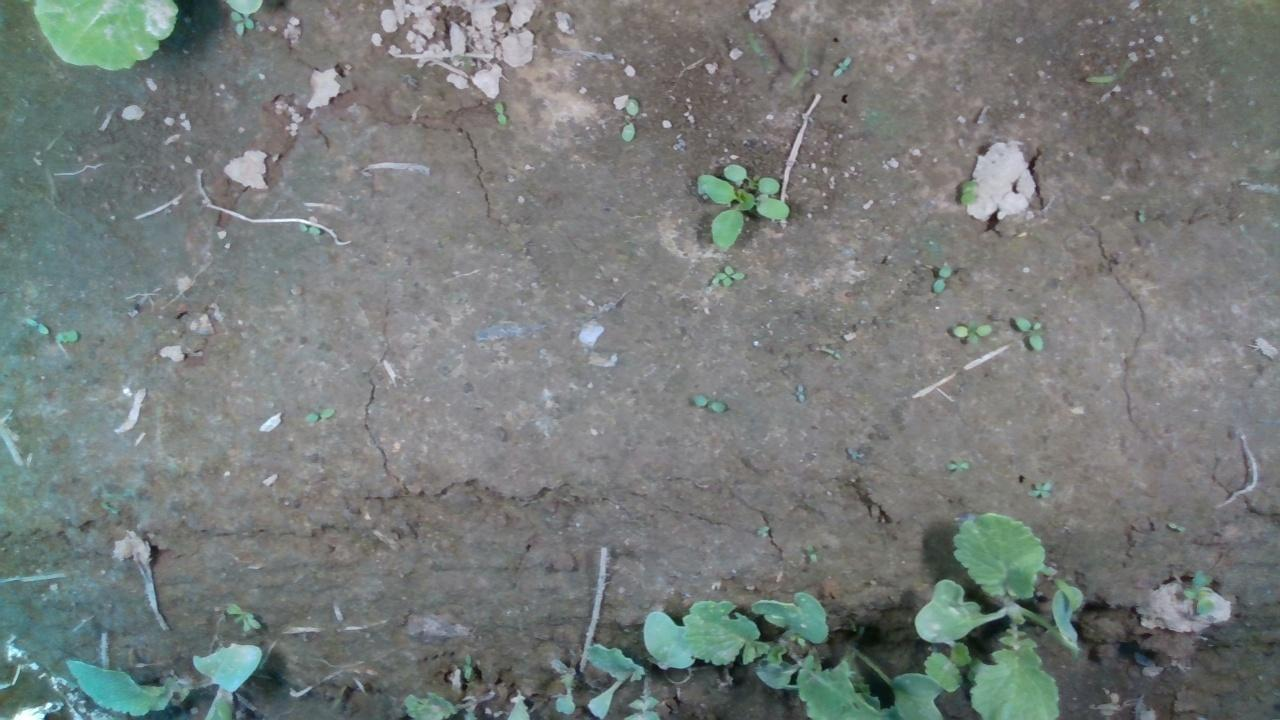weed: (1011, 314, 1044, 351), (948, 318, 992, 345), (222, 601, 260, 632), (619, 96, 639, 141), (709, 263, 743, 286), (689, 394, 726, 412), (930, 263, 950, 294), (303, 405, 334, 423), (23, 316, 48, 335), (1026, 480, 1052, 498), (832, 54, 852, 76), (293, 220, 321, 235), (947, 457, 970, 474), (494, 101, 508, 126), (1165, 519, 1186, 532)
